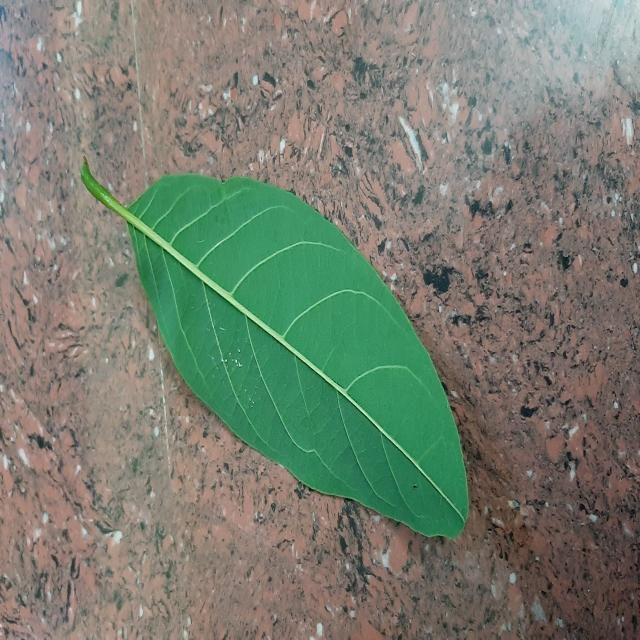leaf: (79, 154, 470, 540)
